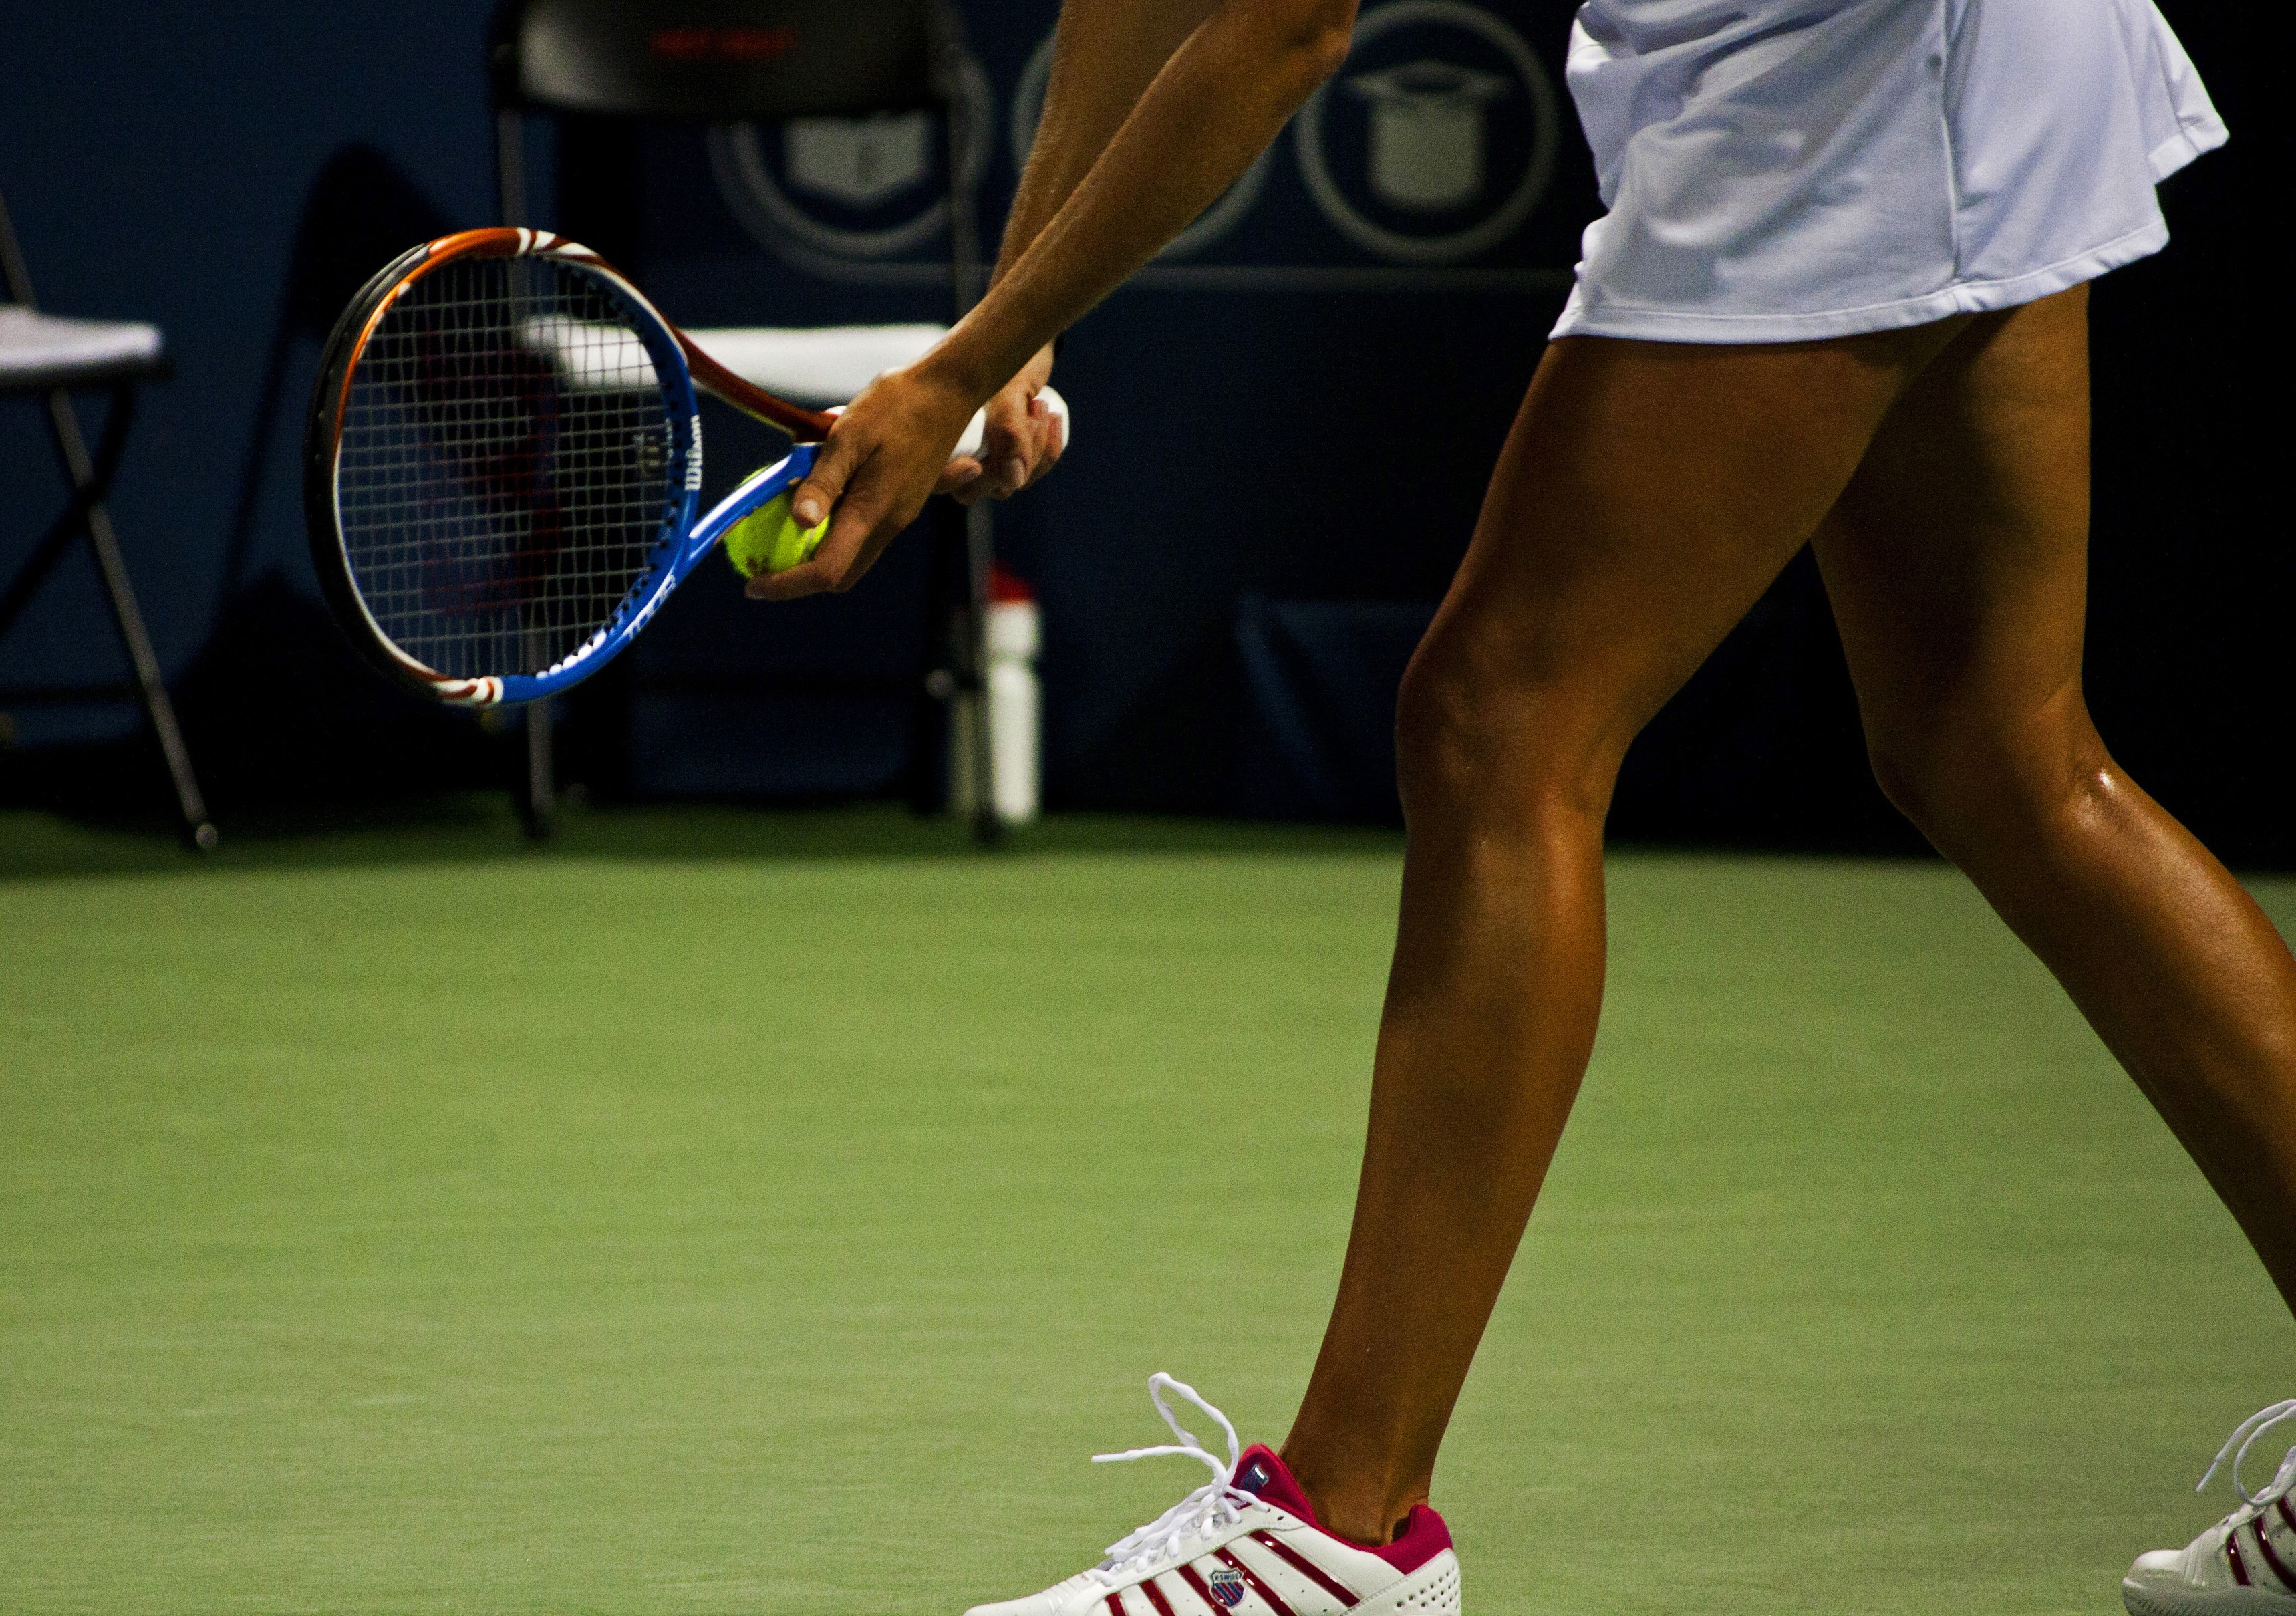tennis_ball: (719, 474, 836, 579)
